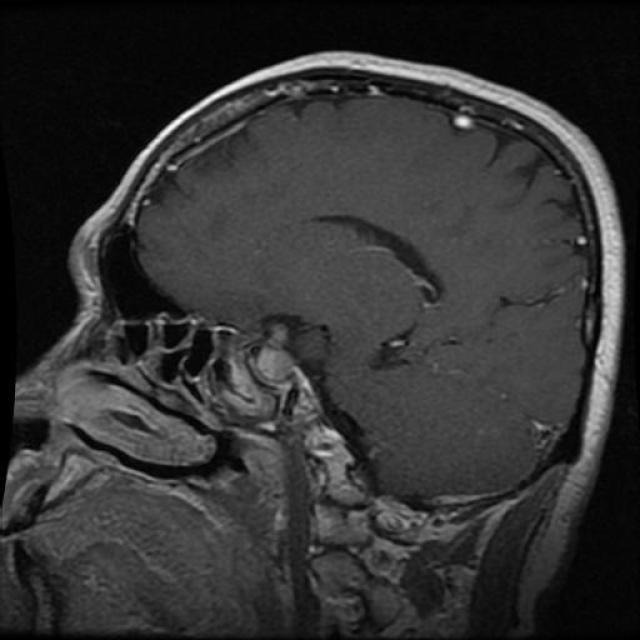pituitary: (215, 313, 334, 421)
